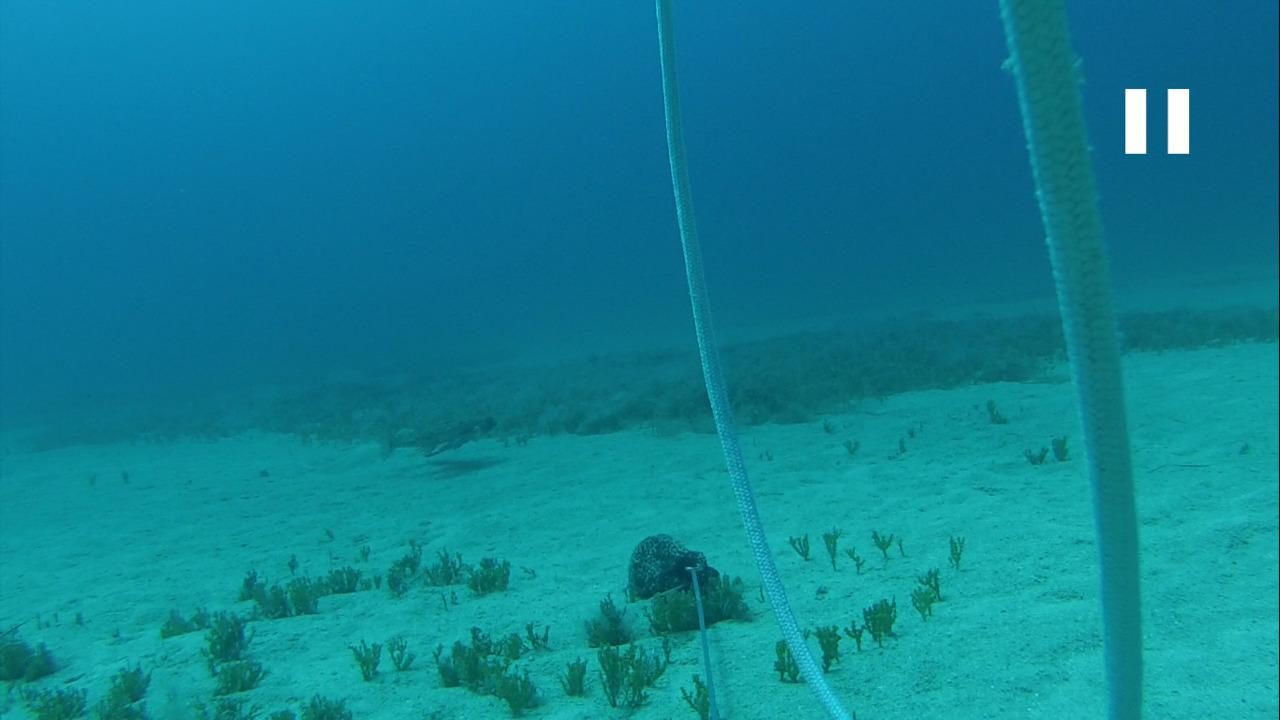dactylopterus: (365, 411, 506, 467)
